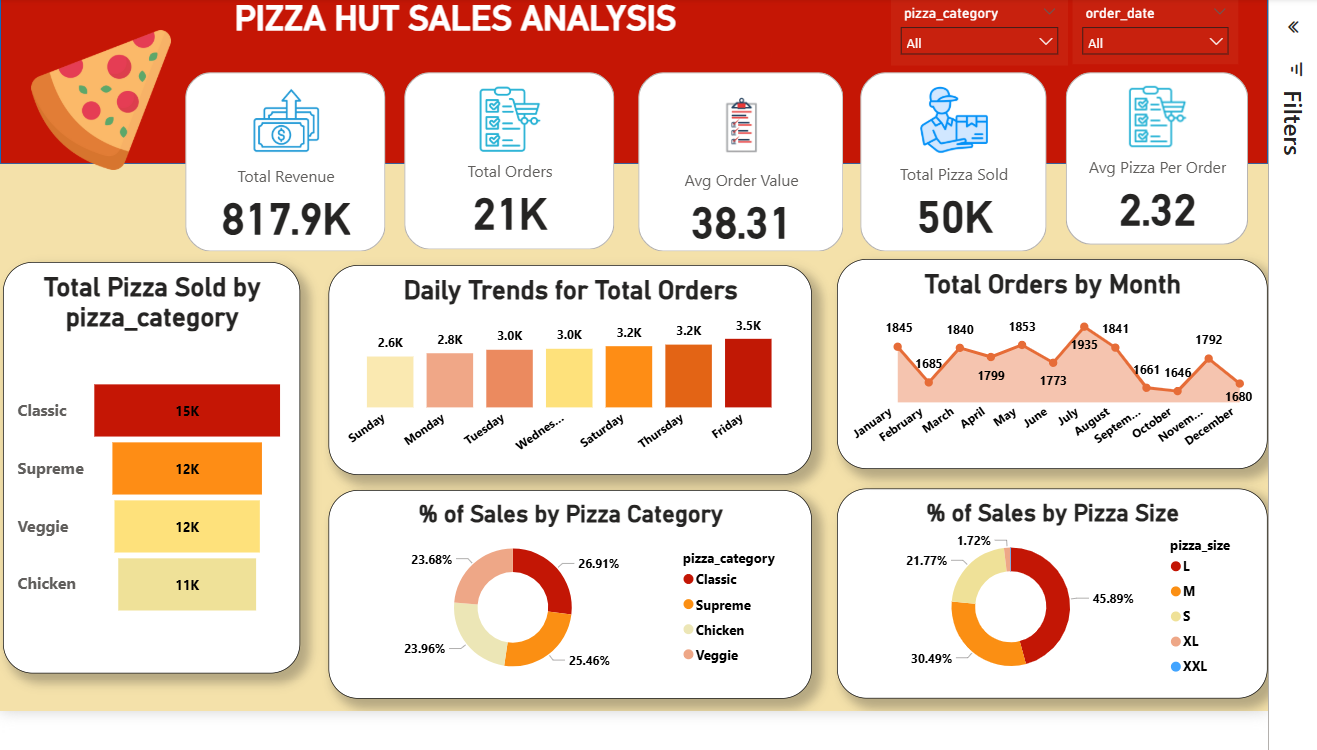

This screenshot's page, from the dashboard's own definition file:
{"tool":"powerbi","page":{"name":"Page 1","canvas":[1280,720],"ordinal":0},"visuals":[{"type":"shape","box":[0,0,1280.1,167.5],"z":0},{"type":"cardVisual","fields":{"Data":["Measures (2).Total Revenue"]},"box":[181,69,212.1,191.4],"z":1000},{"type":"cardVisual","fields":{"Data":["Measures (2).Total Orders"]},"box":[403.4,69,222.4,189.7],"z":2000},{"type":"cardVisual","fields":{"Data":["Measures (2).Avg Order Value"]},"box":[639.7,69,217.2,191.4],"z":3000},{"type":"cardVisual","fields":{"Data":["Measures (2).Total Pizza Sold"]},"box":[863.8,69,198.3,191.4],"z":4000},{"type":"cardVisual","fields":{"Data":["Measures (2).Avg Pizza Per Order"]},"box":[1070.7,69,194.8,184.5],"z":5000},{"type":"columnChart","title":"Daily Trends for Total Orders","fields":{"Category":["pizza_sales.Weekday_name"],"Y":["Measures (2).Total Orders"]},"box":[331,269,487.9,212.1],"z":6000},{"type":"funnel","title":"Total Pizza Sold by pizza_category","fields":{"Category":["pizza_sales.pizza_category"],"Y":["Measures (2).Total Pizza Sold"]},"box":[3.4,267.2,300,415.5],"z":7000},{"type":"donutChart","title":"% of Sales by Pizza Size","fields":{"Category":["pizza_sales.pizza_size"],"Y":["Measures (2).Total Revenue"]},"box":[844.8,494.8,434.5,212.1],"z":8000},{"type":"donutChart","title":"% of Sales by Pizza Category","fields":{"Category":["pizza_sales.pizza_category"],"Y":["Measures (2).Total Revenue"]},"box":[331,496.6,487.9,210.3],"z":9000},{"type":"lineChart","fields":{"Category":["pizza_sales.order_date.Variation.Date Hierarchy.Month"],"Y":["Measures (2).Total Orders"]},"box":[844.8,263.8,434.5,212.1],"z":10000},{"type":"slicer","fields":{"Values":["pizza_sales.pizza_category"]},"box":[899.5,1.6,178.9,66.7],"z":11000},{"type":"slicer","fields":{"Values":["pizza_sales.order_date"]},"box":[1083.3,1.6,167.5,65.1],"z":12000},{"type":"shape","title":"PIZZA HUT SALES ANALYSIS","box":[141.4,0,637.9,65.5],"z":13000},{"type":"image","box":[22.4,19,158.6,167.2],"z":14000}]}

Visuals, with their boxes in screenshot pixels (x1, y1, x2, y2), scaled from the page's 1280x720 canvas onto the 1317x750 screenshot:
shape: (x1=0, y1=0, x2=1316, y2=174)
cardVisual - Measures (2).Total Revenue: (x1=186, y1=72, x2=404, y2=271)
cardVisual - Measures (2).Total Orders: (x1=415, y1=72, x2=644, y2=269)
cardVisual - Measures (2).Avg Order Value: (x1=658, y1=72, x2=882, y2=271)
cardVisual - Measures (2).Total Pizza Sold: (x1=889, y1=72, x2=1093, y2=271)
cardVisual - Measures (2).Avg Pizza Per Order: (x1=1102, y1=72, x2=1302, y2=264)
"Daily Trends for Total Orders" columnChart: (x1=341, y1=280, x2=843, y2=501)
"Total Pizza Sold by pizza_category" funnel: (x1=3, y1=278, x2=312, y2=711)
"% of Sales by Pizza Size" donutChart: (x1=869, y1=515, x2=1316, y2=736)
"% of Sales by Pizza Category" donutChart: (x1=341, y1=517, x2=843, y2=736)
lineChart - pizza_sales.order_date.Variation.Date Hierarchy.Month x Measures (2).Total Orders: (x1=869, y1=275, x2=1316, y2=496)
slicer - pizza_sales.pizza_category: (x1=926, y1=2, x2=1110, y2=71)
slicer - pizza_sales.order_date: (x1=1115, y1=2, x2=1287, y2=69)
"PIZZA HUT SALES ANALYSIS" shape: (x1=145, y1=0, x2=802, y2=68)
image: (x1=23, y1=20, x2=186, y2=194)
